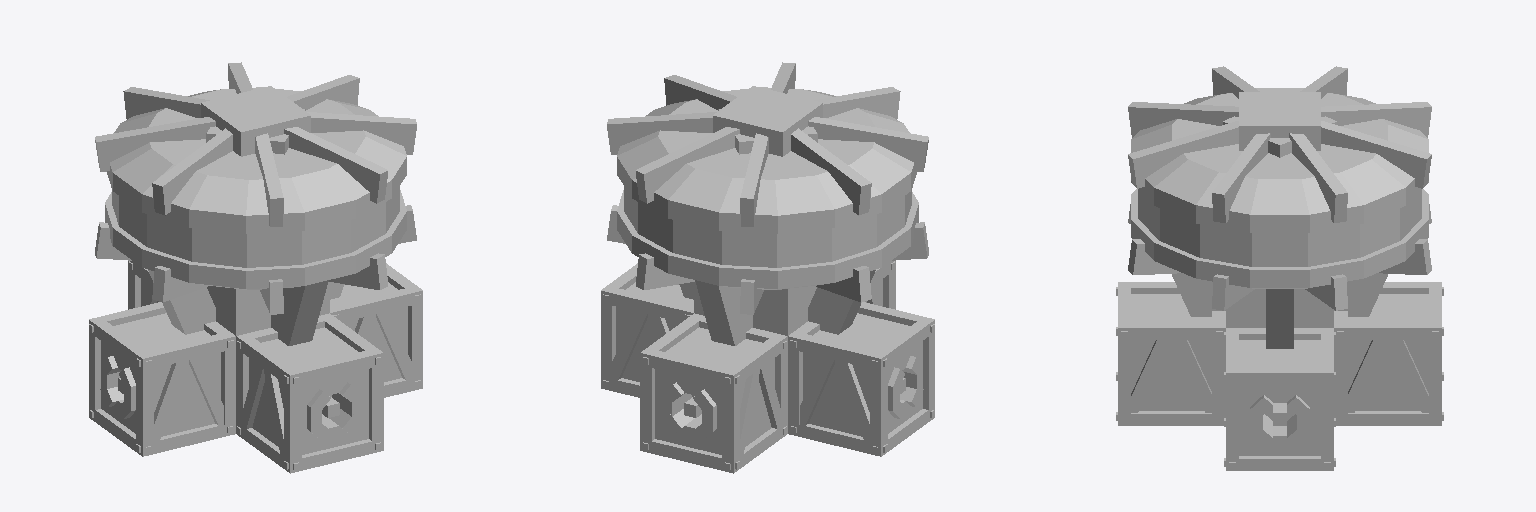
File: flywheel.obj
The picture shows the model from 3 angles: view 1: azimuth 30°, elevation 25°; view 2: azimuth 150°, elevation 25°; view 3: azimuth 270°, elevation 25°; orthographic projection.
Visible parts, largest first — view 1: cylinder.001, cylinder, cylinder.002, cube.012, cube.204, cube.007, cube.011, cube, cube.016, cube.005, cube.009, cube.158 (+28 smaller); view 2: cylinder.001, cylinder, cylinder.002, cube.012, cube.206, cube.009, cube.004, cube, cube.017, cube.008, cube.007, cube.057 (+28 smaller); view 3: cylinder.001, cylinder, cylinder.002, cube.012, cube.060, cube.157, cube.004, cube.011, cube, cube.006, cube.010, cube.112 (+28 smaller).
Part boxes in pixels (left/top/right/bottom): cylinder.001: left=107, top=87, right=406, bottom=233; cylinder: left=112, top=187, right=399, bottom=267; cylinder.002: left=105, top=190, right=406, bottom=289; cube.012: left=201, top=86, right=310, bottom=156; cube.204: left=154, top=352, right=220, bottom=436; cube.007: left=95, top=117, right=215, bottom=171; cube.011: left=284, top=127, right=387, bottom=203; cube: left=207, top=282, right=329, bottom=335; cube.016: left=271, top=280, right=328, bottom=345; cube.005: left=307, top=112, right=416, bottom=154; cube.009: left=152, top=128, right=232, bottom=215; cube.158: left=262, top=327, right=357, bottom=367; cylinder.001: left=617, top=87, right=916, bottom=233; cylinder: left=624, top=187, right=911, bottom=267; cylinder.002: left=617, top=190, right=918, bottom=289; cube.012: left=713, top=86, right=822, bottom=156; cube.206: left=803, top=352, right=869, bottom=436; cube.009: left=808, top=117, right=928, bottom=171; cube.004: left=636, top=127, right=739, bottom=203; cube: left=694, top=282, right=816, bottom=335; cube.017: left=695, top=280, right=752, bottom=345; cube.008: left=607, top=112, right=716, bottom=154; cube.007: left=791, top=128, right=871, bottom=215; cube.057: left=666, top=327, right=761, bottom=367; cylinder.001: left=1131, top=88, right=1428, bottom=232; cylinder: left=1138, top=190, right=1421, bottom=266; cylinder.002: left=1131, top=189, right=1428, bottom=288; cube.012: left=1239, top=92, right=1320, bottom=150; cube.060: left=1348, top=340, right=1428, bottom=410; cube.157: left=1131, top=340, right=1211, bottom=410; cube.004: left=1321, top=121, right=1431, bottom=188; cube.011: left=1128, top=121, right=1238, bottom=188; cube: left=1226, top=289, right=1333, bottom=327; cube.006: left=1128, top=102, right=1238, bottom=137; cube.010: left=1321, top=102, right=1431, bottom=137; cube.112: left=1239, top=340, right=1320, bottom=367.
Bounding box in the file's own units: 3.03 × 3 × 3.03.